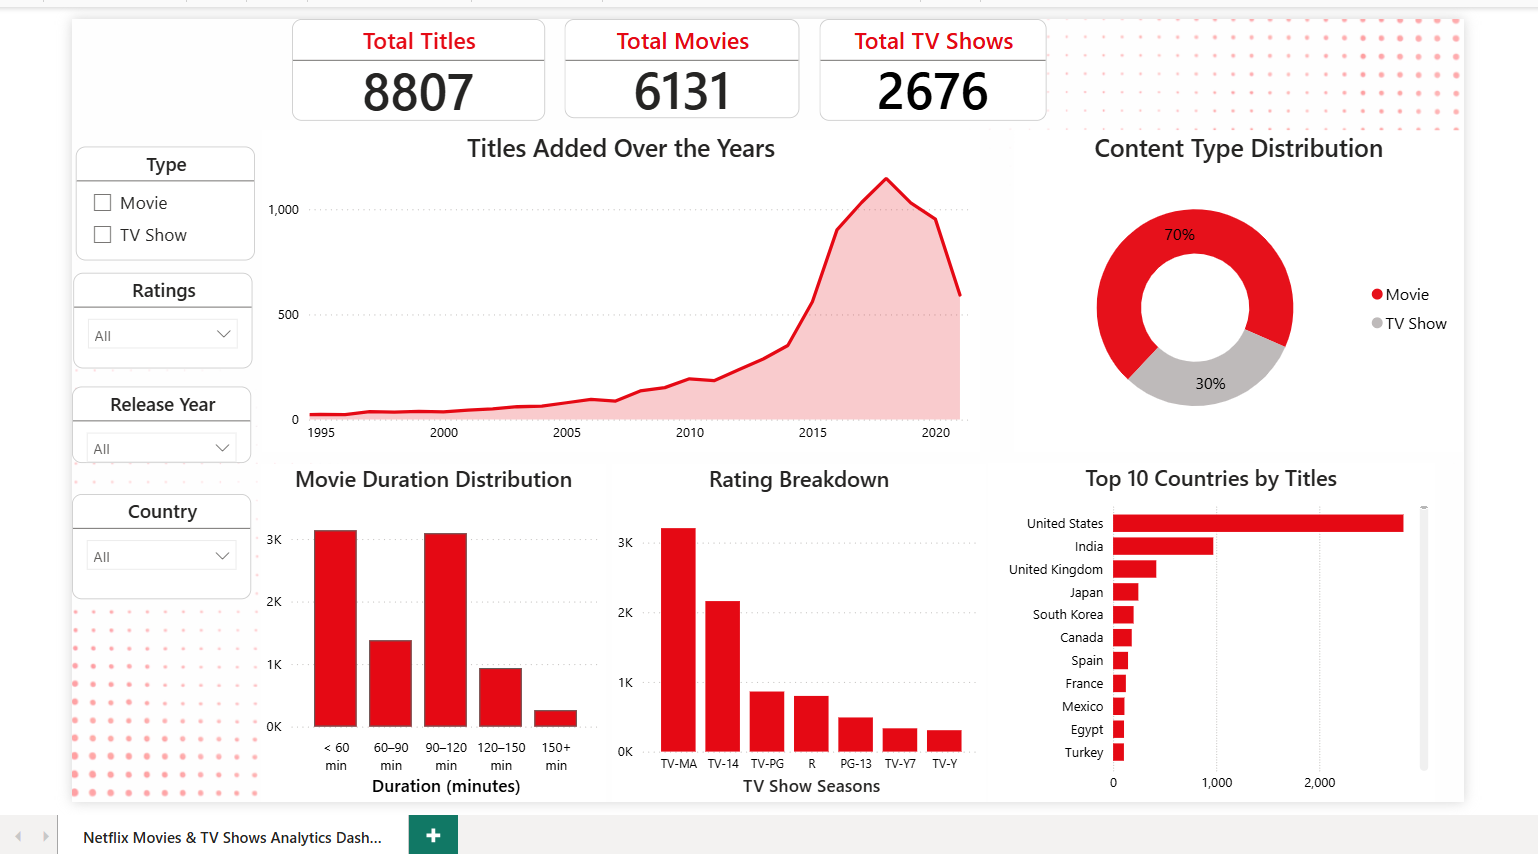

This screenshot's page, from the dashboard's own definition file:
{"tool":"powerbi","page":{"name":"Netflix Movies & TV Shows Analytics Dashboard","canvas":[1280,720],"ordinal":0},"visuals":[{"type":"kpi","title":"Total Movies","fields":{"Indicator":["CountNonNull(netflix_cleaned.title)"],"TrendLine":["netflix_cleaned.type"]},"box":[443.8,2.5,216.2,91.2],"z":0},{"type":"kpi","title":"Total TV Shows","fields":{"Indicator":["CountNonNull(netflix_cleaned.title)"],"TrendLine":["netflix_cleaned.type"]},"box":[693.8,0,208.8,93.8],"z":1000},{"type":"donutChart","title":"Content Type Distribution","fields":{"Category":["netflix_cleaned.type"],"Y":["CountNonNull(netflix_cleaned.title)"]},"box":[843.3,100,435.6,267.8],"z":2000},{"type":"lineChart","title":"Titles Added Over the Years","fields":{"Category":["netflix_cleaned.release_year"],"Y":["CountNonNull(netflix_cleaned.title)"]},"box":[157.8,100,677.8,281.1],"z":3000},{"type":"clusteredColumnChart","title":"Rating Breakdown","fields":{"Category":["netflix_cleaned.rating"],"Y":["CountNonNull(netflix_cleaned.title)"]},"box":[496.7,406.7,343.3,313.3],"z":4000},{"type":"clusteredBarChart","title":"Top 10 Countries by Titles","fields":{"Y":["CountNonNull(netflix_cleaned.title)"],"Category":["netflix_cleaned.Country_Clean"]},"box":[842.5,407.5,410,312.5],"z":5000},{"type":"clusteredColumnChart","title":"Movie Duration Distribution","fields":{"Y":["CountNonNull(netflix_cleaned.title)"],"Category":["netflix_cleaned.Duration Group"]},"box":[173.3,406.7,318.3,313.3],"z":6000},{"type":"slicer","title":"Type","fields":{"Values":["netflix_cleaned.type"]},"box":[3.3,116.7,165,105],"z":7000},{"type":"slicer","title":"Ratings","fields":{"Values":["netflix_cleaned.rating"]},"box":[1.7,233.3,165,88.3],"z":8000},{"type":"slicer","title":"Release Year","fields":{"Values":["netflix_cleaned.release_year"]},"box":[0,338.3,165,70],"z":9000},{"type":"slicer","title":"Country","fields":{"Values":["netflix_cleaned.country"]},"box":[0,436.7,165,96.7],"z":10000},{"type":"card","title":"Total Titles","fields":{"Values":["netflix_cleaned.Total Titles"]},"box":[175,0,232.5,93.8],"z":11000}]}

Visuals, with their boxes on the page's 1280x720 design canvas (x1, y1, x2, y2). These are canvas units, not pixel positions in the 1538x854 screenshot, which may show the page scaled, cropped or inside an application window:
"Total Movies" kpi: x1=444 y1=2 x2=660 y2=94
"Total TV Shows" kpi: x1=694 y1=0 x2=903 y2=94
"Content Type Distribution" donutChart: x1=843 y1=100 x2=1279 y2=368
"Titles Added Over the Years" lineChart: x1=158 y1=100 x2=836 y2=381
"Rating Breakdown" clusteredColumnChart: x1=497 y1=407 x2=840 y2=720
"Top 10 Countries by Titles" clusteredBarChart: x1=842 y1=408 x2=1252 y2=720
"Movie Duration Distribution" clusteredColumnChart: x1=173 y1=407 x2=492 y2=720
"Type" slicer: x1=3 y1=117 x2=168 y2=222
"Ratings" slicer: x1=2 y1=233 x2=167 y2=322
"Release Year" slicer: x1=0 y1=338 x2=165 y2=408
"Country" slicer: x1=0 y1=437 x2=165 y2=533
"Total Titles" card: x1=175 y1=0 x2=408 y2=94
